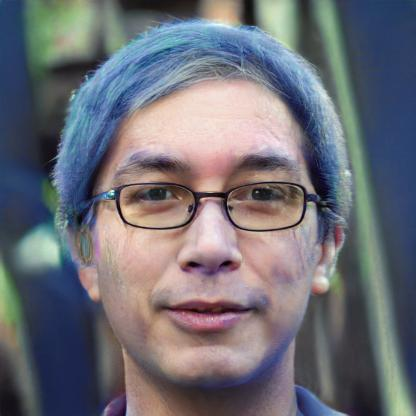glasses: (98, 180, 318, 233)
